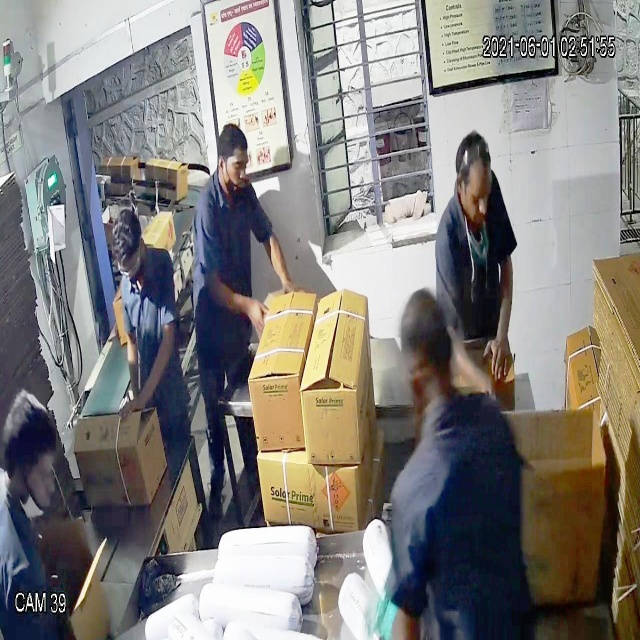Gafas: (111, 252, 148, 282)
Sin_gafas: (451, 168, 495, 215)
